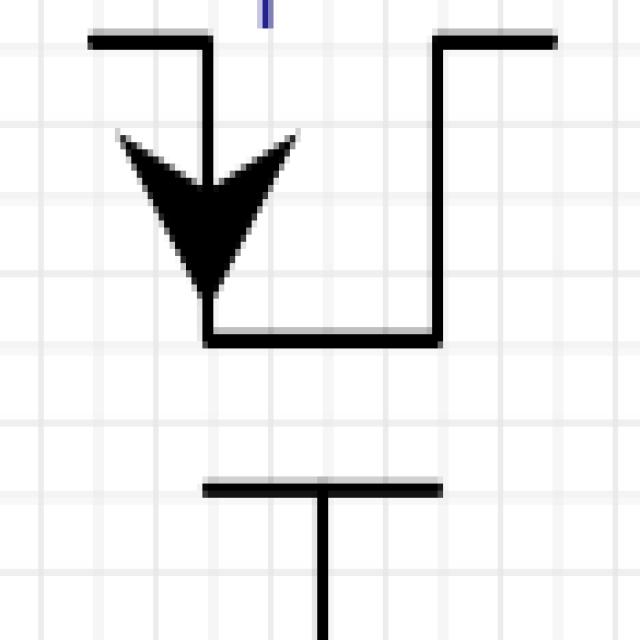pmos: (67, 22, 596, 640)
